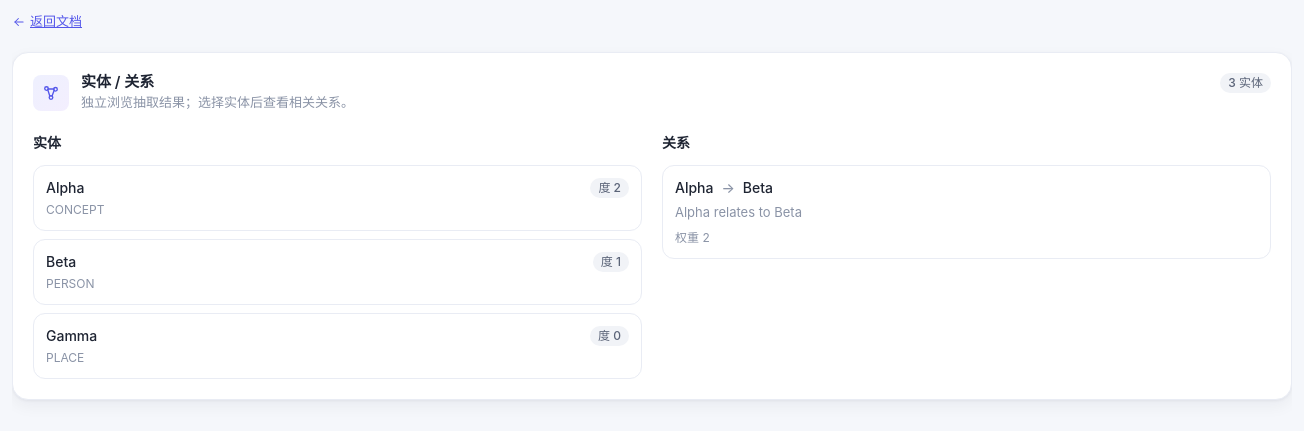
Test: clicking a relationship selects its connected entity
Click the button with aria-label "查看关系 Alpha 到 Beta": (694, 187) [662,165,1271,259]
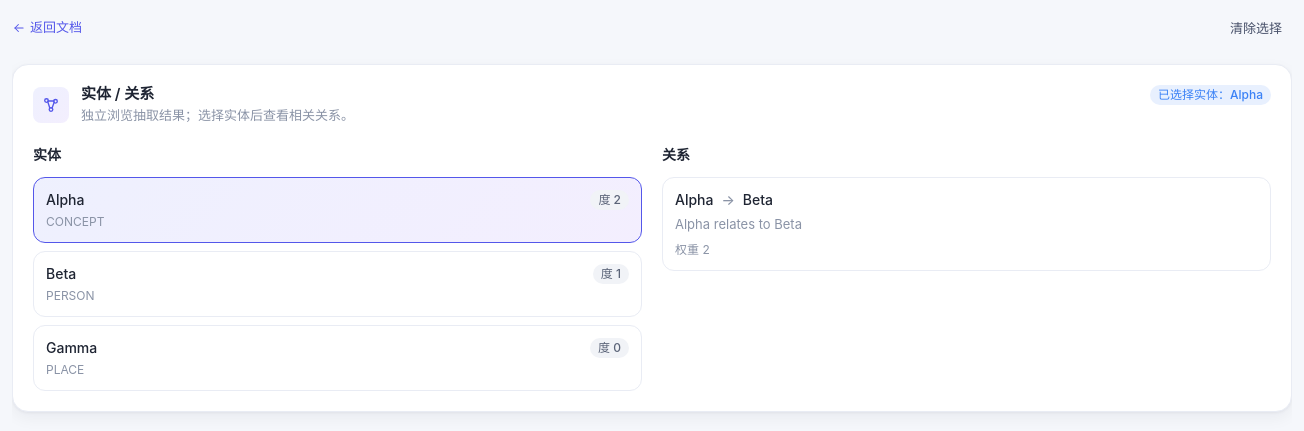
expect the text "已选择实体：Alpha" is shown: met, box [1150,85,1271,105]
